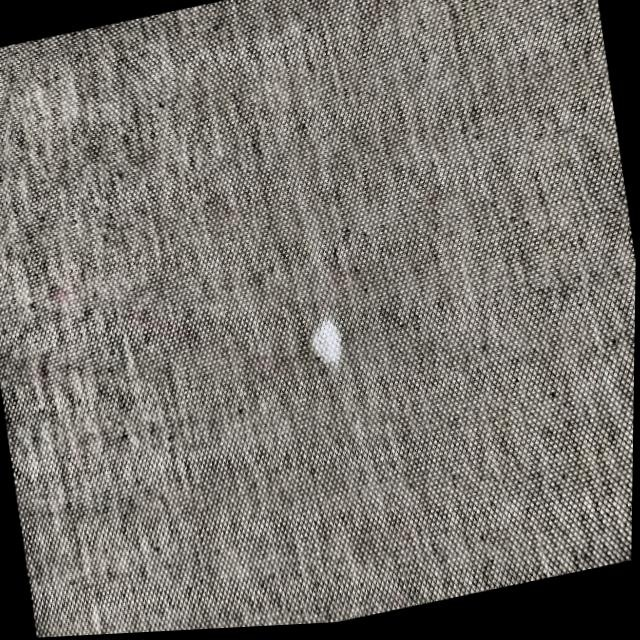Hole: (293, 308, 360, 381)
